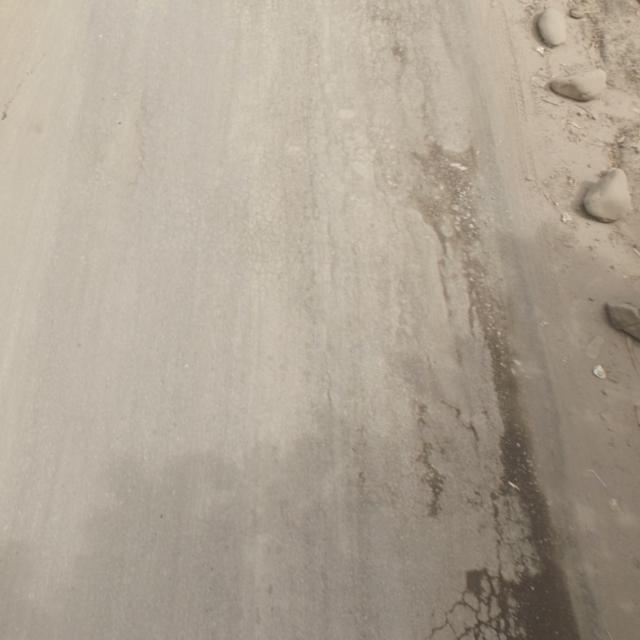GRIETA: (419, 445, 443, 516)
PIEL DE COCODRILO: (297, 5, 461, 206), (138, 154, 328, 317), (409, 481, 541, 639)
